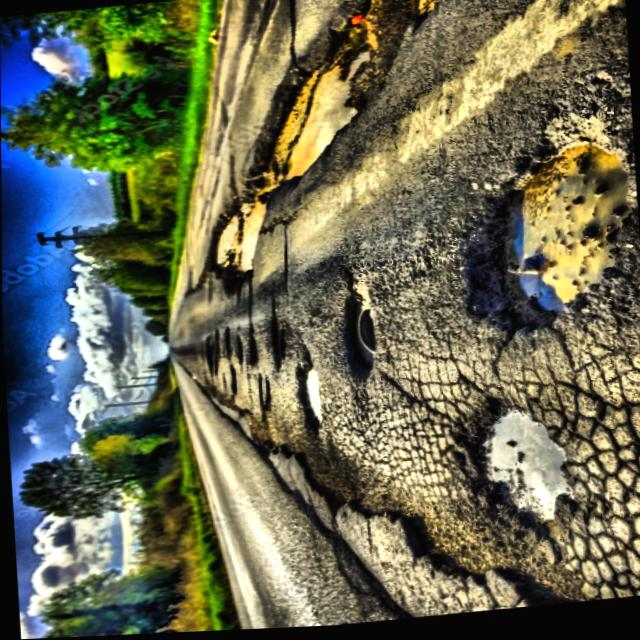Cracks: (468, 145, 633, 336), (472, 412, 572, 531)
